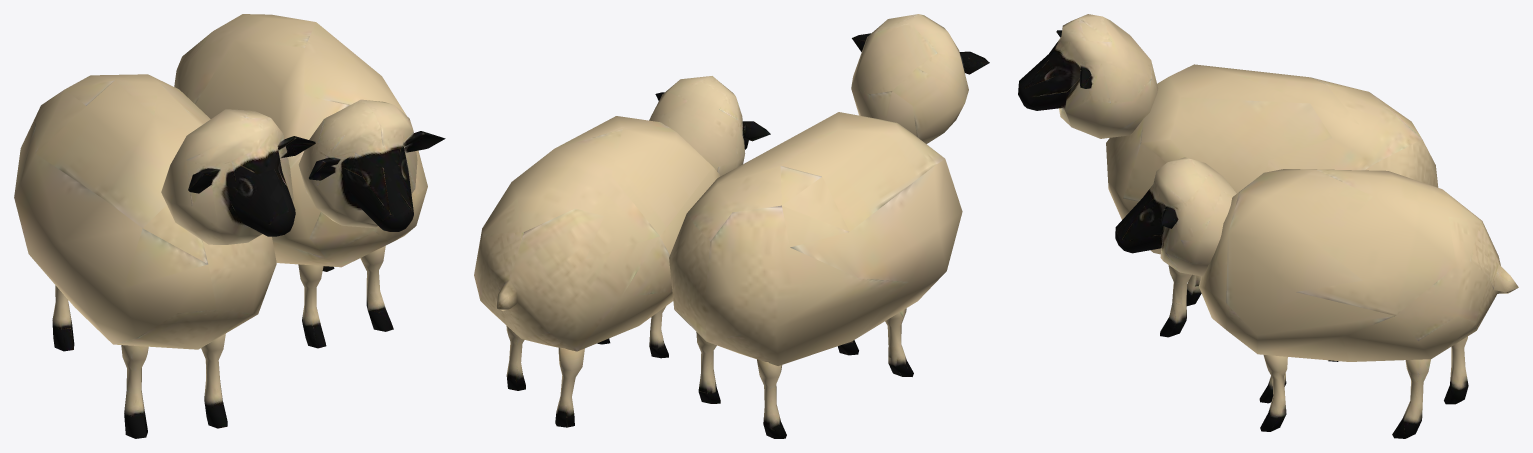
The model's file is mini-pasture.glb.
3 views of the same model, side by side, from view 1: azimuth 30°, elevation 25°; view 2: azimuth 150°, elevation 25°; view 3: azimuth 270°, elevation 25° (orthographic). The views are drawn at different scales.
Size of the model in its own units: 0.7773 by 0.6421 by 0.9565.
Materials: 1 (1 with a texture image).
